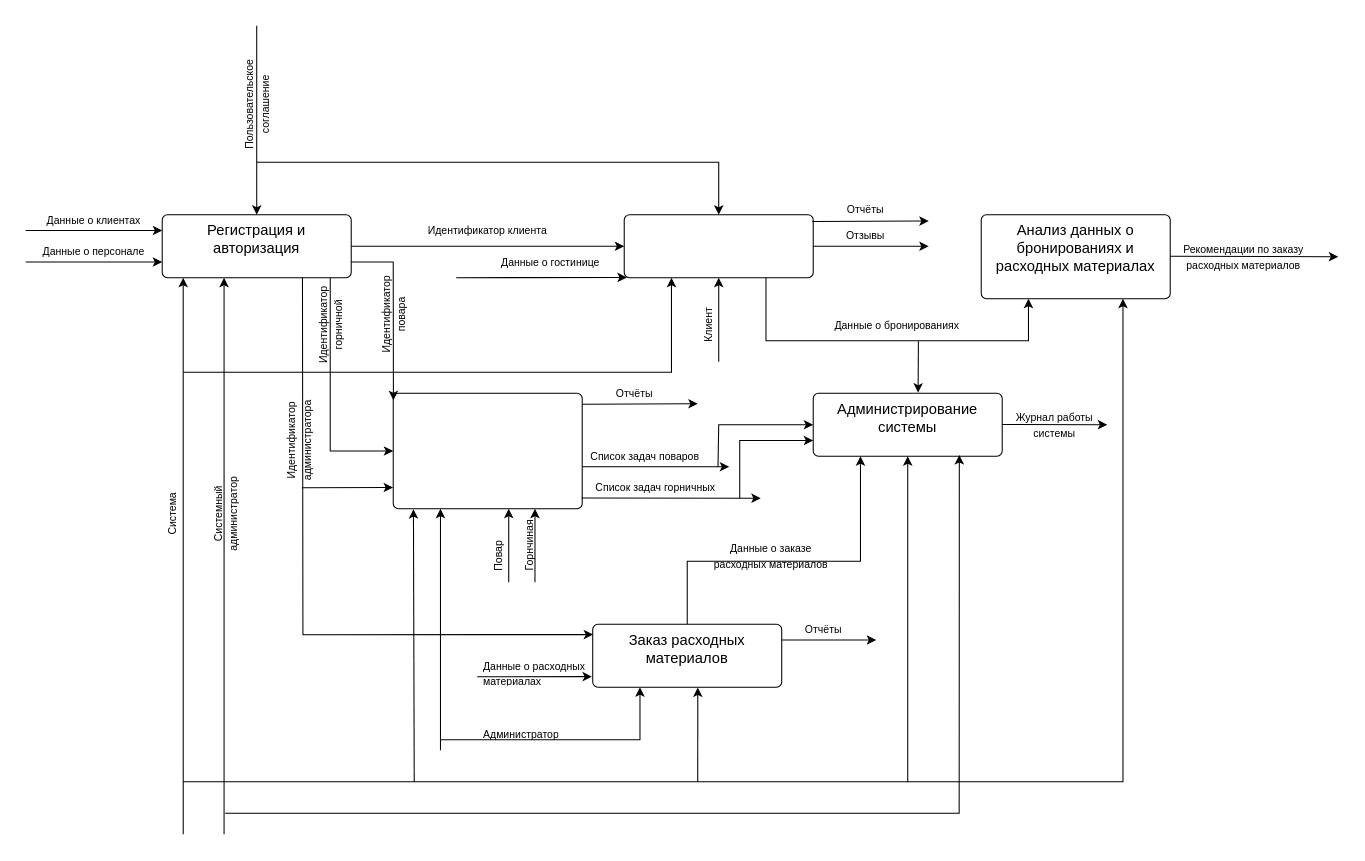
Some shapes in this 1365 by 861 pixel diagram are drawn without their labels. Each missing label, with the centre of its shape:
"Обработка бронирования" belongs at (x=718, y=246).
"Распределение задач" belongs at (x=487, y=450).
